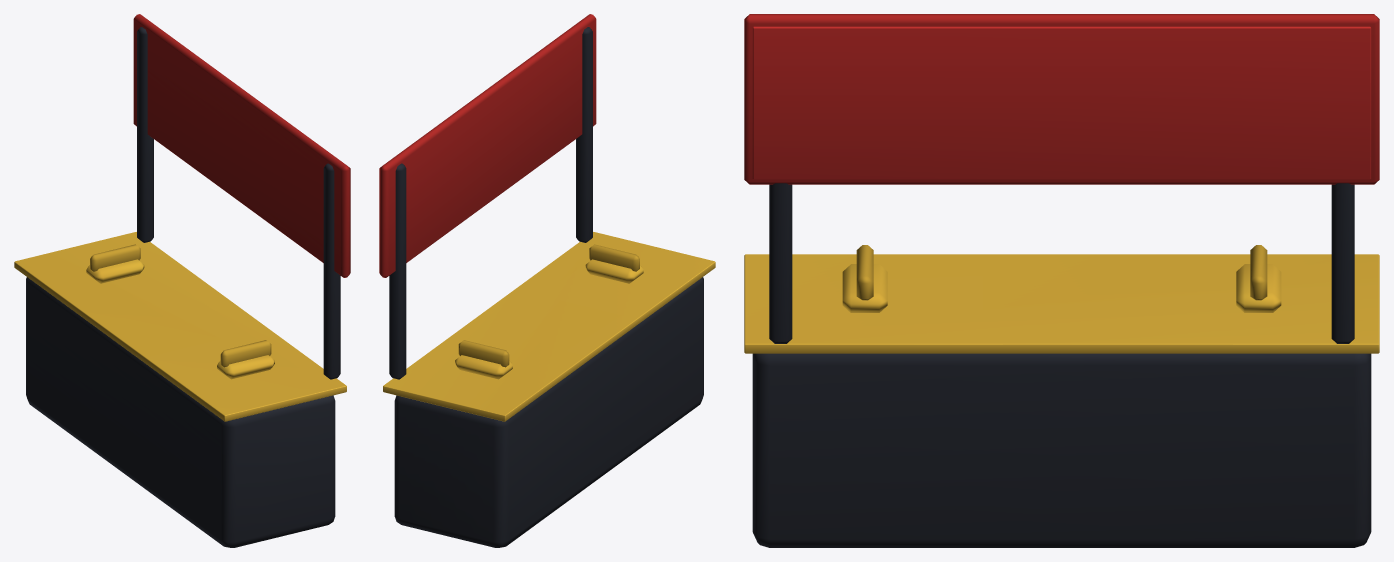
Rendered from SM_Warehouse_HarpoonRack.fbx.
The picture shows the model from 3 angles, left to right: view 1: azimuth 30°, elevation 25°; view 2: azimuth 150°, elevation 25°; view 3: azimuth 270°, elevation 25°; orthographic projection. The views are drawn at different scales.
Visible parts, largest first — view 1: SM_Warehouse_HarpoonRack; view 2: SM_Warehouse_HarpoonRack; view 3: SM_Warehouse_HarpoonRack.
Part boxes in pixels (<box>): SM_Warehouse_HarpoonRack: <box>14,14,350,547</box>; SM_Warehouse_HarpoonRack: <box>379,14,715,547</box>; SM_Warehouse_HarpoonRack: <box>744,14,1379,547</box>.
Bounding box in the file's own units: 80.04 × 213 × 226.
